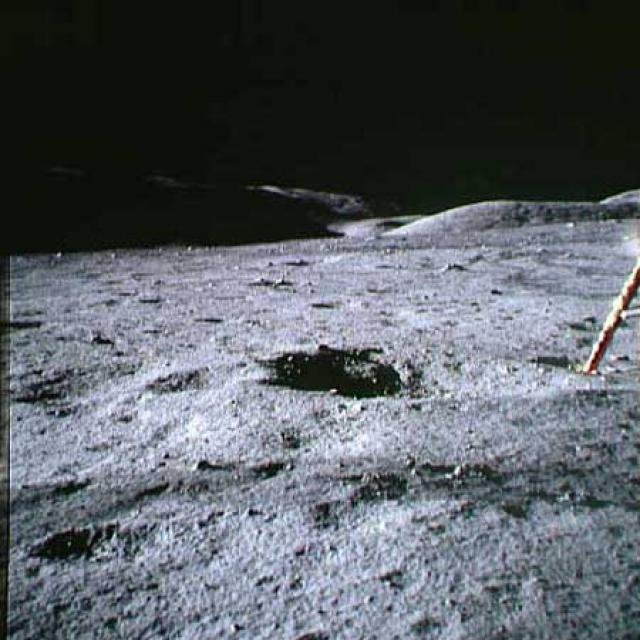artifact: (564, 242, 638, 377)
crater: (179, 349, 560, 402)
